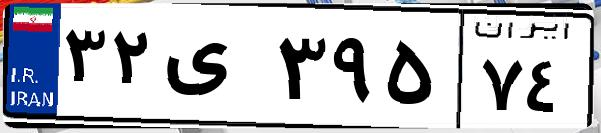2: (110, 28, 158, 98)
3: (270, 28, 330, 110), (57, 26, 110, 100)
4: (525, 38, 570, 115)
5: (385, 28, 445, 110)
7: (475, 38, 525, 113)
9: (330, 28, 385, 110)
ی: (158, 20, 270, 120)
